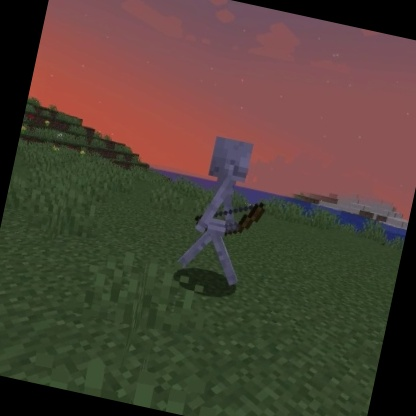skeleton: (171, 129, 282, 294)
